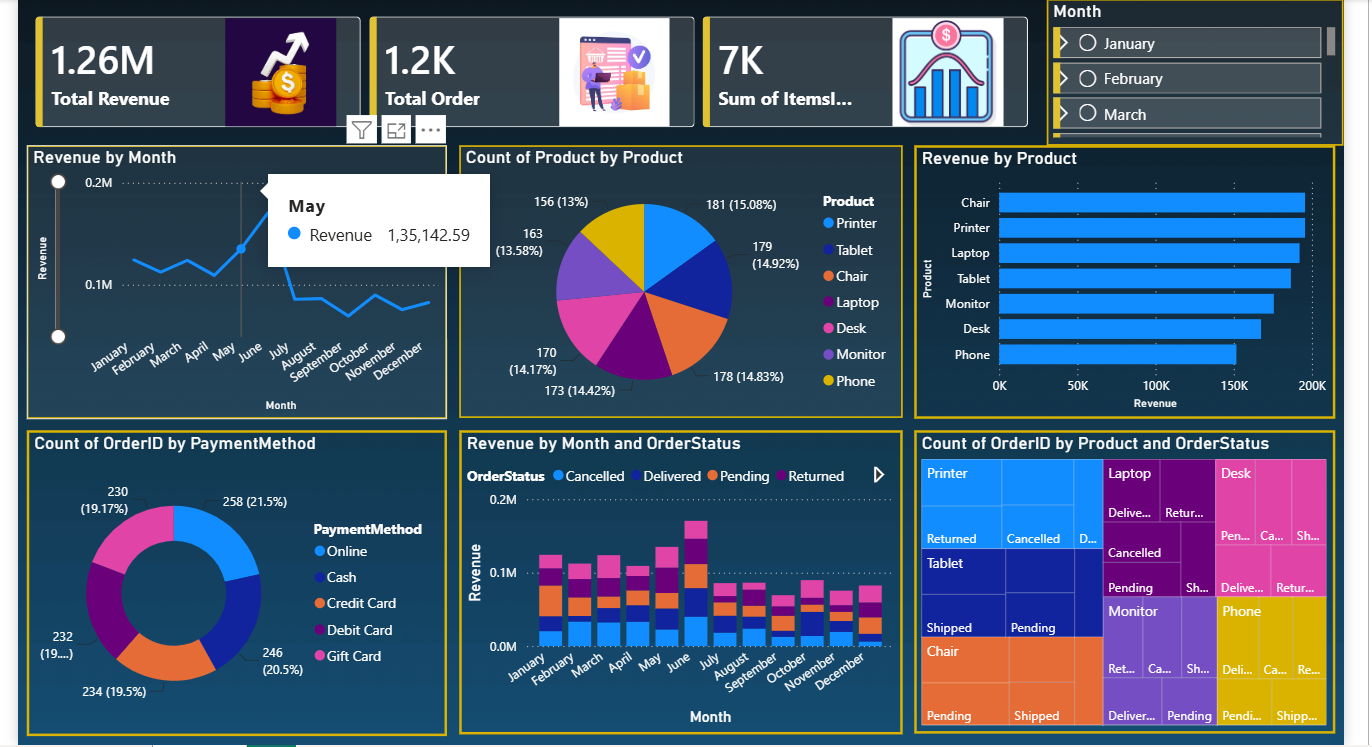

Layout of this report page (visuals, bound fields, positions):
{"tool":"powerbi","page":{"name":"Page 1","canvas":[1280,720],"ordinal":0},"visuals":[{"type":"cardVisual","fields":{"Data":["Sum(Sheet1.TotalPrice)","CountNonNull(Sheet1.OrderID)","Sum(Sheet1.ItemsInCart)"]},"box":[0,0,992.9,141.2],"z":0},{"type":"lineChart","fields":{"Category":["Sheet1.Date.Variation.Date Hierarchy.Month"],"Y":["Sum(Sheet1.TotalPrice)"]},"box":[8.4,141.2,405.4,264.2],"z":1000},{"type":"pieChart","fields":{"Y":["CountNonNull(Sheet1.Product)"],"Category":["Sheet1.Product"]},"box":[425.4,141.3,428.1,263.5],"z":2000},{"type":"listSlicer","fields":{"Values":["Sheet1.Date.Variation.Date Hierarchy.Month","Sheet1.Product"]},"box":[993.5,0,286.8,141.3],"z":3000},{"type":"treemap","fields":{"Values":["CountNonNull(Sheet1.OrderID)"],"Group":["Sheet1.Product"],"Details":["Sheet1.OrderStatus"]},"box":[865,416.2,406.6,293.2],"z":4000},{"type":"donutChart","fields":{"Category":["Sheet1.PaymentMethod"],"Y":["CountNonNull(Sheet1.OrderID)"]},"box":[8.4,416.2,405.4,295.6],"z":5000},{"type":"columnChart","fields":{"Y":["Sum(Sheet1.TotalPrice)"],"Category":["Sheet1.Date.Variation.Date Hierarchy.Month"],"Series":["Sheet1.OrderStatus"]},"box":[425.4,415.8,428.1,293.7],"z":6000},{"type":"clusteredBarChart","fields":{"Y":["Sum(Sheet1.TotalPrice)"],"Category":["Sheet1.Product"]},"box":[865,141.2,406.6,264.2],"z":7000}]}

Visuals, with their boxes in screenshot pixels (x1, y1, x2, y2):
cardVisual - Sum(Sheet1.TotalPrice) x CountNonNull(Sheet1.OrderID): bbox=[29, 7, 1044, 152]
lineChart - Sheet1.Date.Variation.Date Hierarchy.Month x Sum(Sheet1.TotalPrice): bbox=[37, 152, 452, 422]
pieChart - CountNonNull(Sheet1.Product) x Sheet1.Product: bbox=[464, 152, 902, 421]
listSlicer - Sheet1.Date.Variation.Date Hierarchy.Month x Sheet1.Product: bbox=[1045, 7, 1338, 152]
treemap - CountNonNull(Sheet1.OrderID) x Sheet1.Product: bbox=[913, 433, 1329, 733]
donutChart - Sheet1.PaymentMethod x CountNonNull(Sheet1.OrderID): bbox=[37, 433, 452, 735]
columnChart - Sum(Sheet1.TotalPrice) x Sheet1.Date.Variation.Date Hierarchy.Month: bbox=[464, 432, 902, 733]
clusteredBarChart - Sum(Sheet1.TotalPrice) x Sheet1.Product: bbox=[913, 152, 1329, 422]
